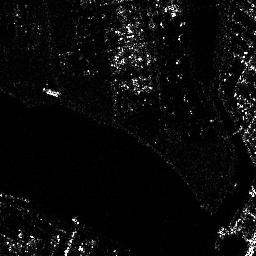ship: (41, 88, 61, 98)
